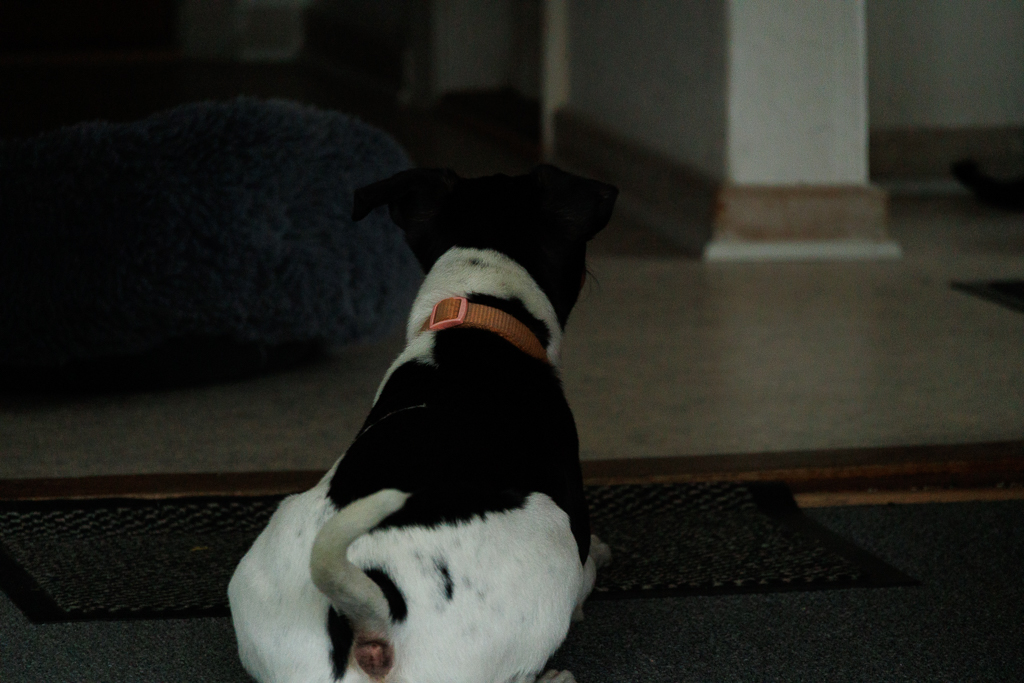Dog: (209, 145, 645, 683)
